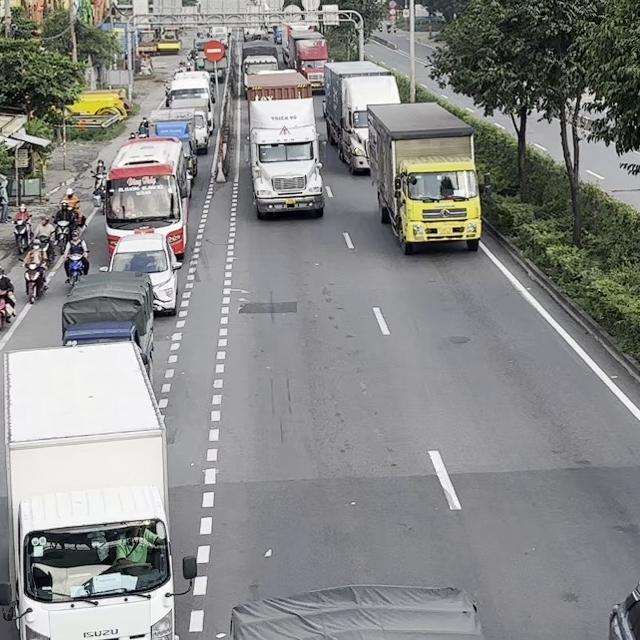bus: (103, 134, 191, 258)
car: (98, 230, 182, 316), (608, 580, 639, 639)
motorcycle: (21, 261, 48, 304), (0, 266, 17, 328), (63, 250, 87, 286), (12, 216, 33, 255), (90, 171, 106, 208), (55, 220, 70, 257)
truck: (0, 339, 185, 639), (365, 101, 487, 255), (228, 583, 486, 639), (245, 68, 326, 219), (61, 270, 155, 373), (322, 59, 401, 175), (146, 108, 199, 178), (164, 70, 216, 135), (239, 40, 288, 98), (289, 30, 331, 95), (277, 22, 321, 68)
